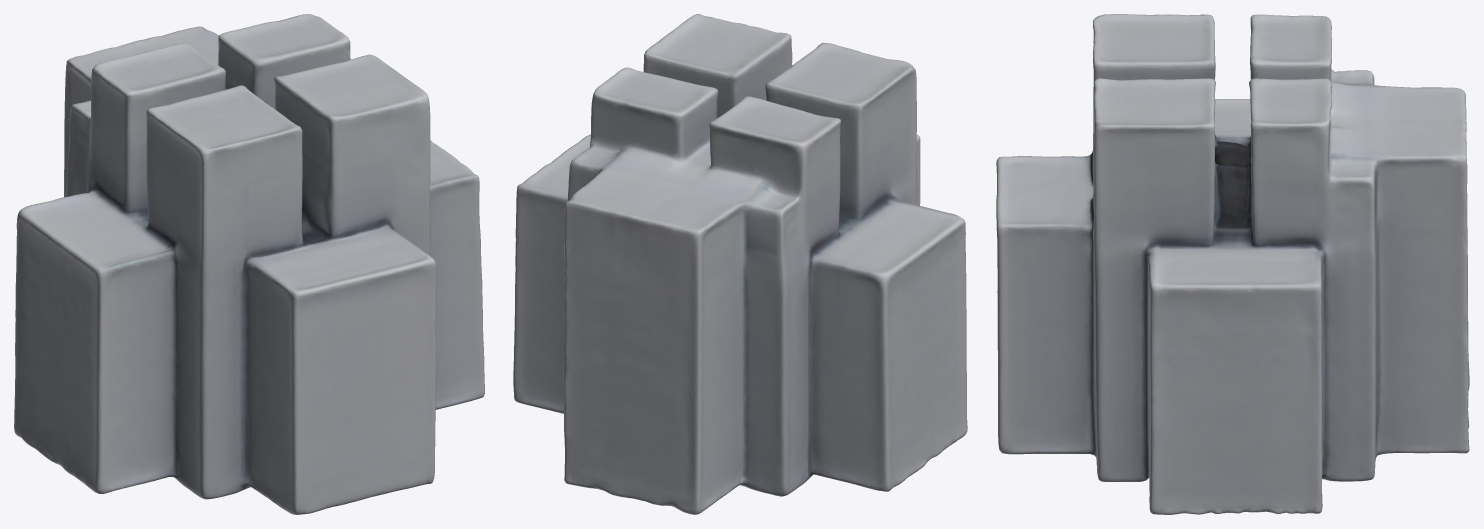
The model's file is 476a44000e7e_cubes__3d_asset_0_g.fbx.
3 renders of one model, left to right at view 1: azimuth 30°, elevation 25°; view 2: azimuth 150°, elevation 25°; view 3: azimuth 270°, elevation 25°, orthographic. The views are drawn at different scales.
Parts seen in each view (by area): view 1: high_poly; view 2: high_poly; view 3: high_poly.
Boxes of the visible parts, x1,y1,x2,y2 form: high_poly: [14, 14, 484, 514]; high_poly: [513, 14, 967, 514]; high_poly: [996, 14, 1469, 514].
Size of the model in its own units: 96.76 by 83.43 by 100.
